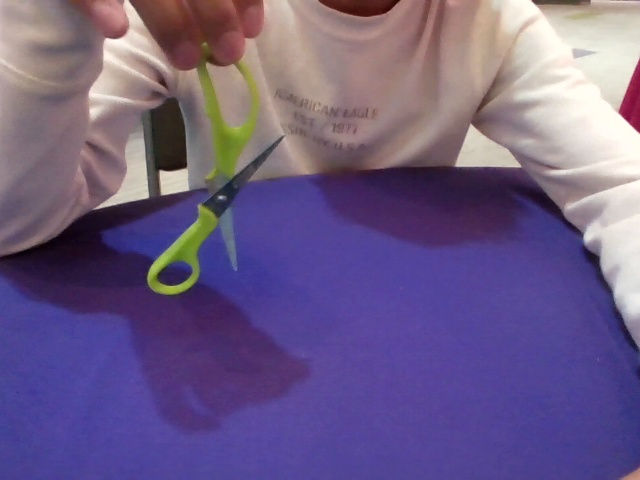tijeras: (145, 133, 284, 297)
